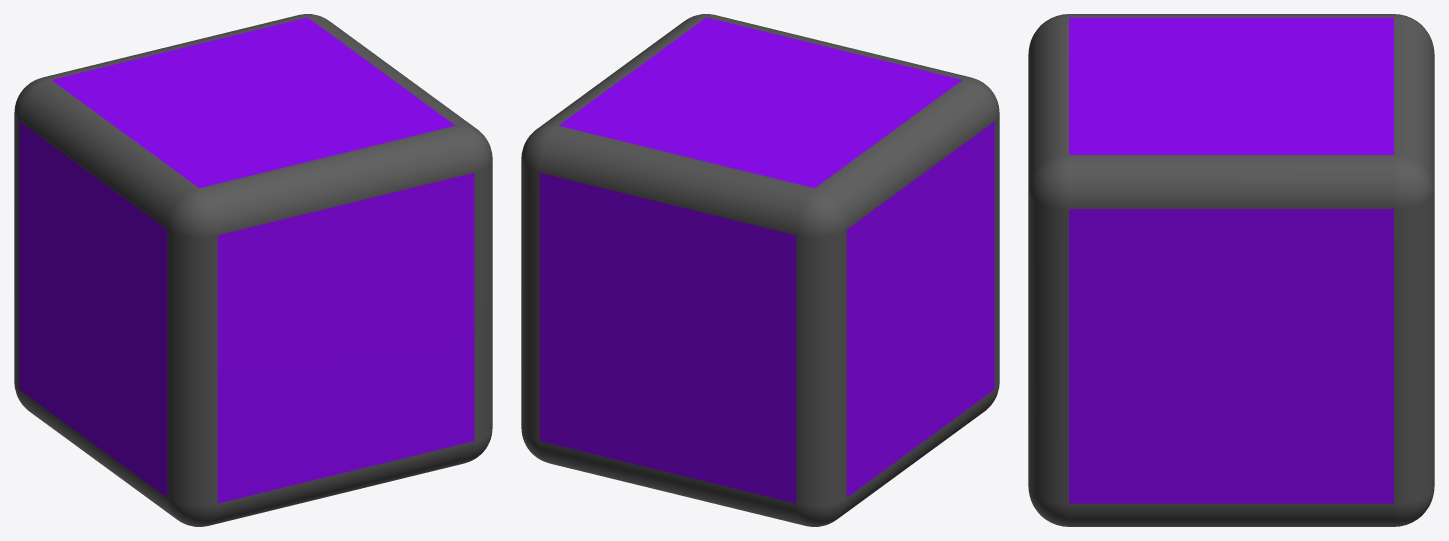
File: stone6.glb
3 views of the same model, side by side, from view 1: azimuth 30°, elevation 25°; view 2: azimuth 150°, elevation 25°; view 3: azimuth 270°, elevation 25° (orthographic). The views are drawn at different scales.
Visible parts, largest first — view 1: Cube; view 2: Cube; view 3: Cube.
Boxes of the visible parts, x1,y1,x2,y2 form: Cube: [14, 14, 492, 526]; Cube: [521, 14, 999, 526]; Cube: [1028, 14, 1434, 526].
Bounding box in the file's own units: 1 × 1 × 1.
